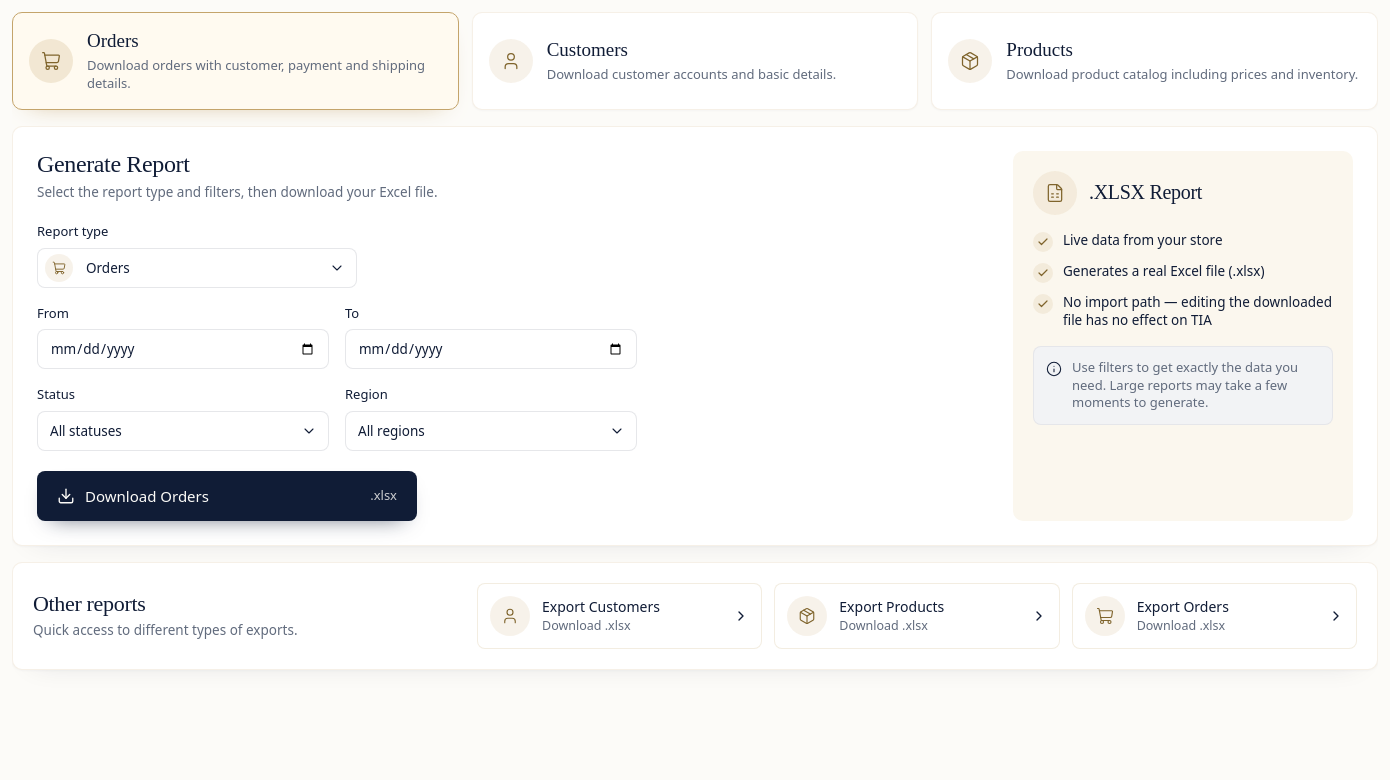
report types › clicking a card switches the report, the dropdown, the filters and the button label
This screenshot has width=1390, height=780.
Click the radio button labelled "Customers Download customer accounts and basic details." at [511, 61], box [472,12,918,110]
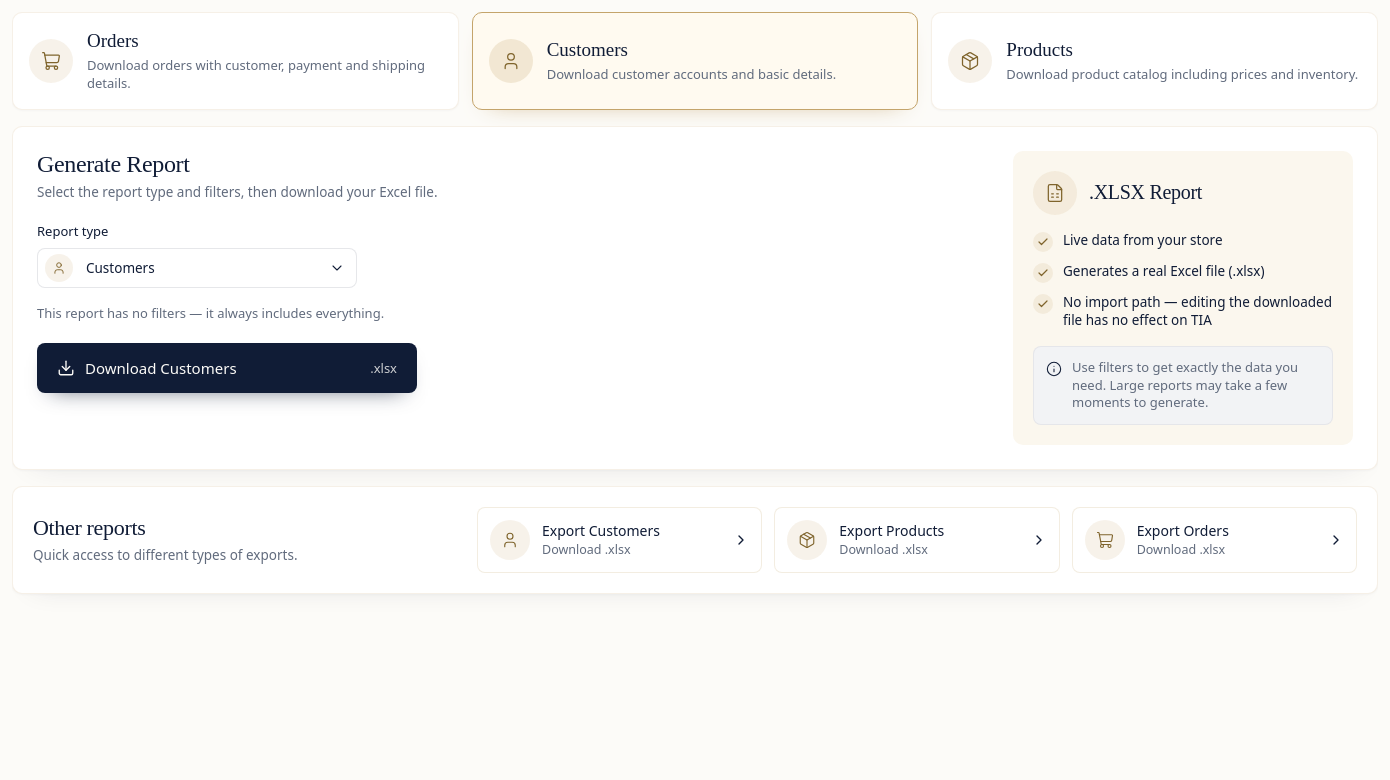
Expected: the dropdown labelled "Report type" shows "Customers", [37,248,357,288]
Expected: the button with test id "download-button" shows "Download Customers", [37,343,417,393]
Click the radio button that starts with "Products" at [970, 61], box [931,12,1378,110]
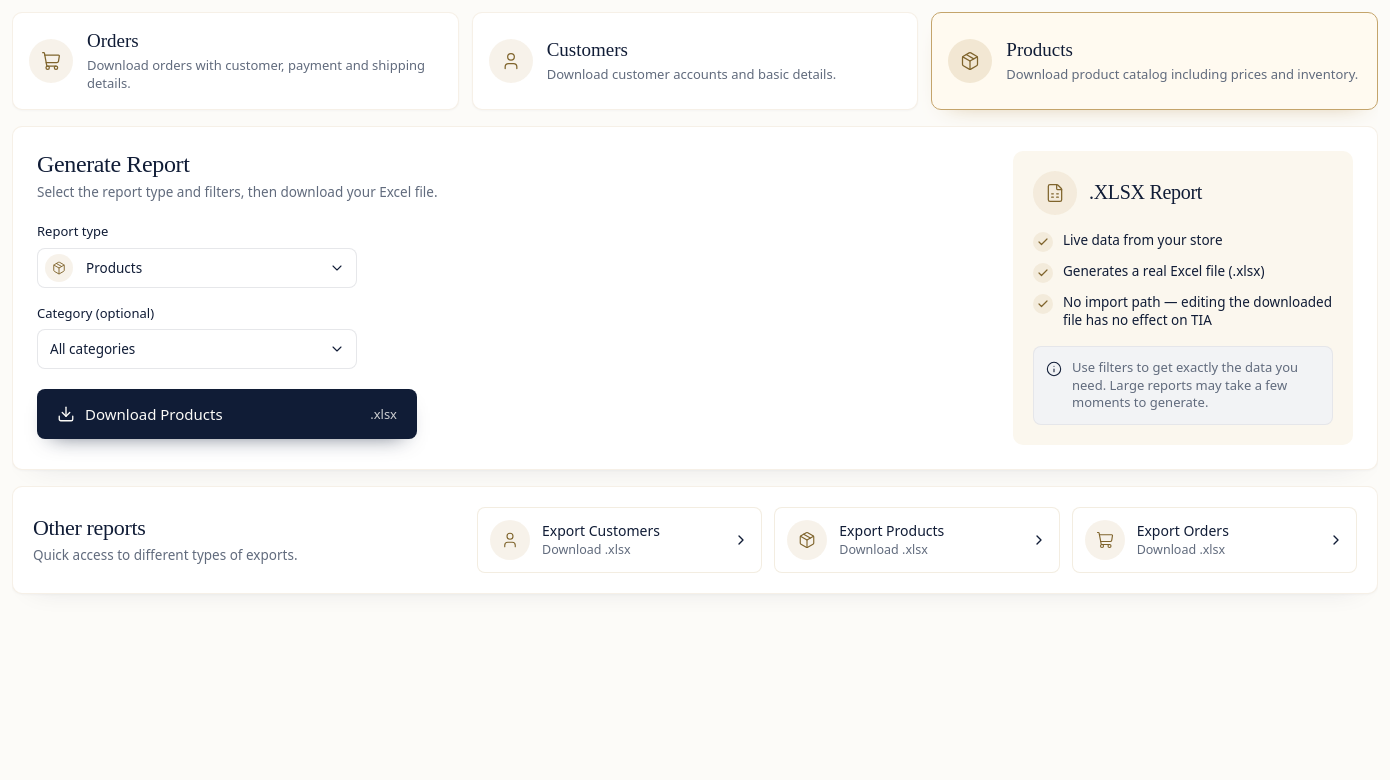
Expected: the dropdown labelled "Report type" shows "Products", [37,248,357,288]
Expected: the button with test id "download-button" shows "Download Products", [37,389,417,439]
